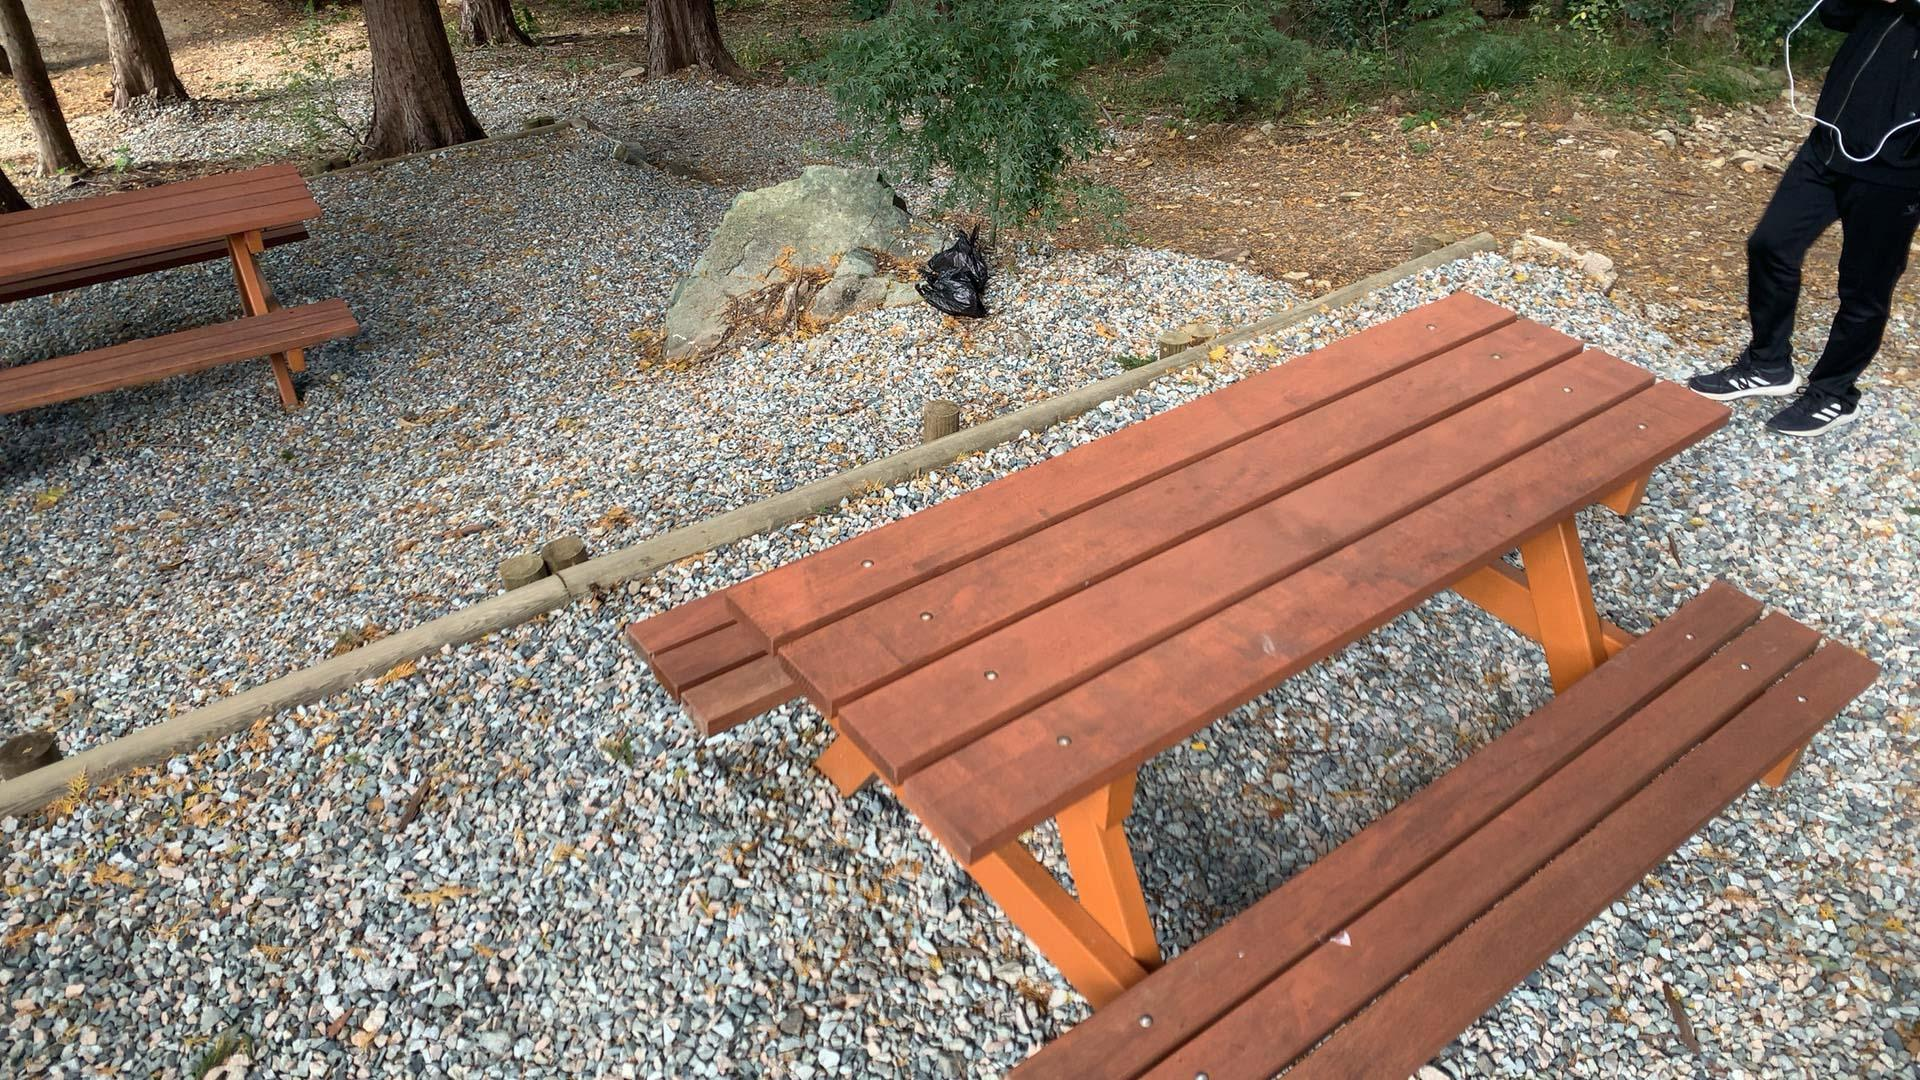black_bag: (909, 219, 998, 320)
